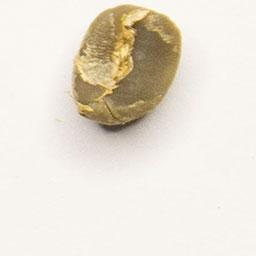premium: (65, 2, 186, 132)
